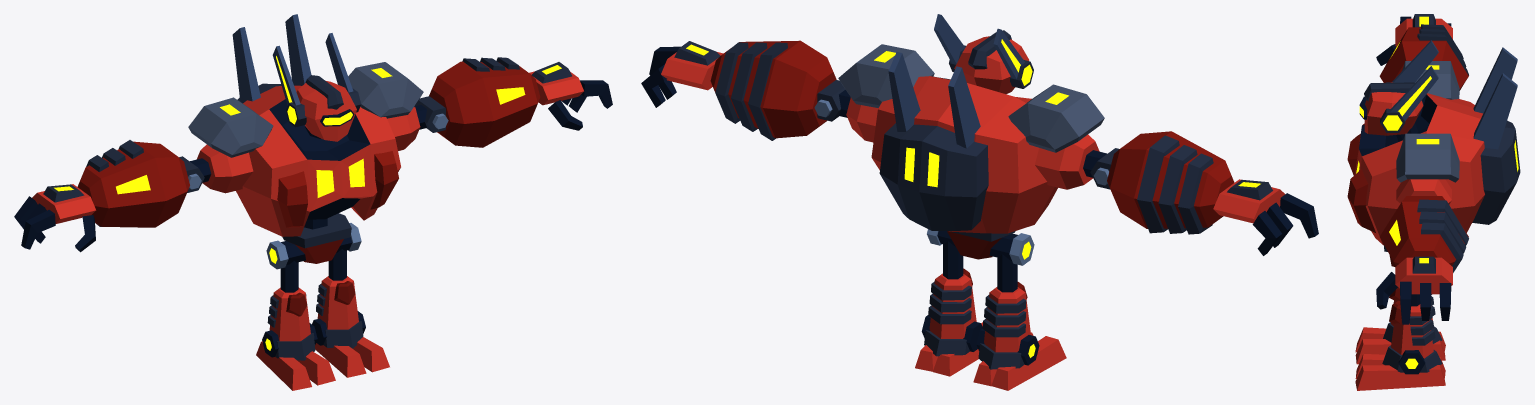
Rendered from player-robot-1.fbx.
The picture shows the model from 3 angles, left to right: view 1: azimuth 30°, elevation 25°; view 2: azimuth 150°, elevation 25°; view 3: azimuth 270°, elevation 25°; orthographic projection. The views are drawn at different scales.
Parts seen in each view (by area): view 1: Cube.002, Cube.005, Cube.004, Cube.019, Cube.003, Cube.018, Cube.012, Cube.015, Cube.001, Cube.011, Cube.017, Cube.016 (+2 smaller); view 2: Cube.002, Cube.005, Cube.004, Cube.019, Cube.003, Cube.018, Cube.015, Cube.001, Cube.012, Cube.011, Cube.017, Cube.016 (+3 smaller); view 3: Cube.002, Cube.005, Cube.019, Cube.001, Cube.015, Cube.004, Cube.016, Cube.017, Cube.010, Cube.003, Cube.018.
Boxes of the visible parts, left/top/right/bottom form: Cube.002: left=188, top=14, right=423, bottom=236; Cube.005: left=414, top=57, right=540, bottom=147; Cube.004: left=77, top=140, right=204, bottom=227; Cube.019: left=272, top=33, right=361, bottom=141; Cube.003: left=14, top=184, right=96, bottom=252; Cube.018: left=262, top=287, right=317, bottom=360; Cube.012: left=266, top=213, right=361, bottom=269; Cube.015: left=312, top=276, right=365, bottom=348; Cube.001: left=529, top=62, right=612, bottom=130; Cube.011: left=190, top=144, right=253, bottom=193; Cube.017: left=256, top=341, right=335, bottom=390; Cube.016: left=315, top=337, right=389, bottom=377; Cube.002: left=838, top=44, right=1104, bottom=233; Cube.005: left=710, top=40, right=845, bottom=140; Cube.004: left=1090, top=131, right=1234, bottom=234; Cube.019: left=934, top=14, right=1033, bottom=94; Cube.003: left=1213, top=179, right=1318, bottom=255; Cube.018: left=976, top=282, right=1039, bottom=369; Cube.015: left=921, top=268, right=982, bottom=356; Cube.001: left=641, top=41, right=723, bottom=107; Cube.012: left=927, top=229, right=1034, bottom=265; Cube.011: left=1035, top=134, right=1106, bottom=189; Cube.017: left=973, top=332, right=1066, bottom=390; Cube.016: left=915, top=322, right=982, bottom=376; Cube.002: left=1347, top=47, right=1520, bottom=245; Cube.005: left=1379, top=196, right=1468, bottom=272; Cube.019: left=1359, top=40, right=1438, bottom=135; Cube.001: left=1376, top=256, right=1452, bottom=324; Cube.015: left=1382, top=300, right=1442, bottom=374; Cube.004: left=1379, top=24, right=1468, bottom=90; Cube.016: left=1355, top=354, right=1445, bottom=390; Cube.017: left=1355, top=327, right=1445, bottom=364; Cube.010: left=1396, top=179, right=1451, bottom=204; Cube.003: left=1376, top=14, right=1452, bottom=65; Cube.018: left=1383, top=287, right=1442, bottom=343.
Bounding box in the file's own units: 503 × 255 × 128.
